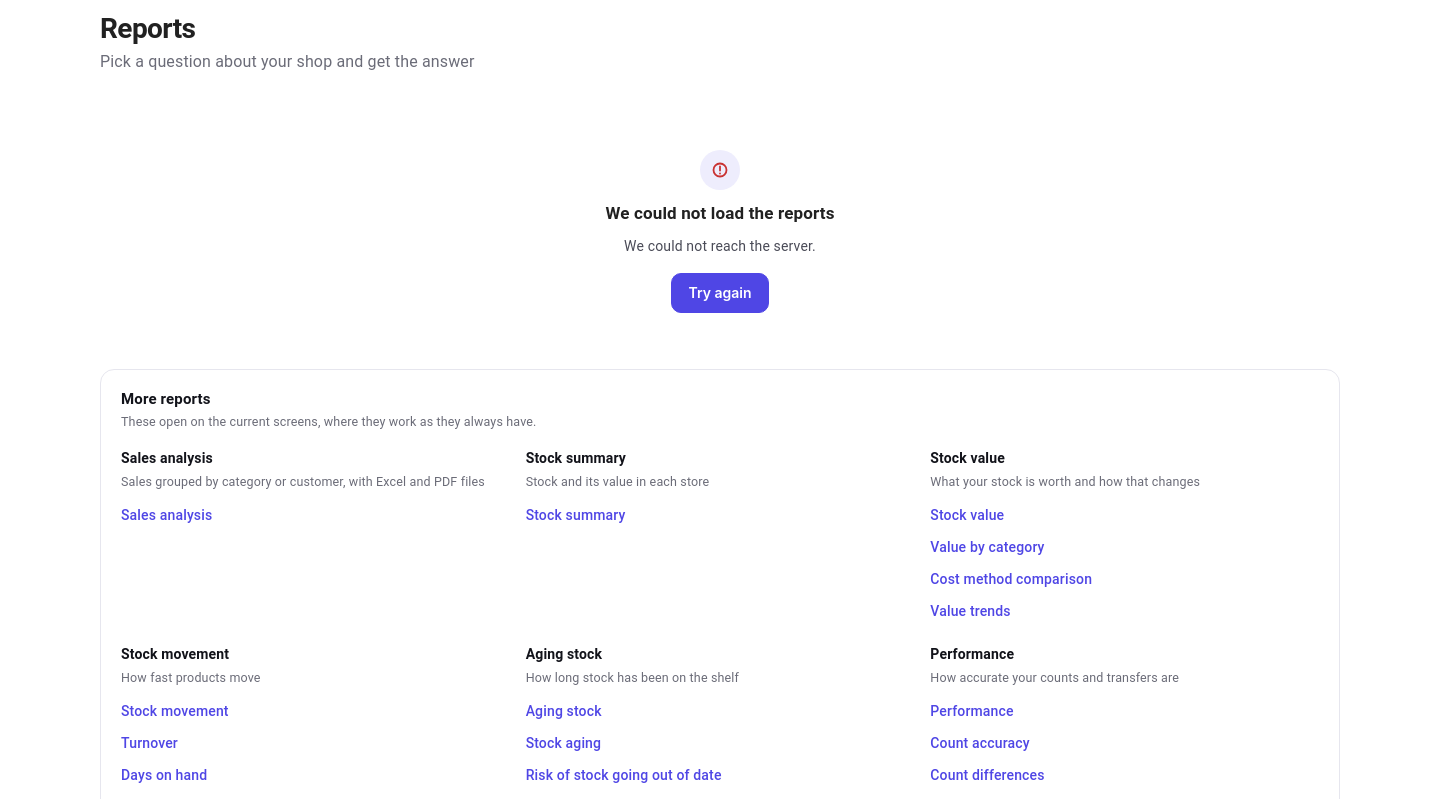
loading and errors › a failure says so, offers Try again, and still keeps the other reports reachable
The width and height of the screenshot is (1440, 799).
Check: the heading "We could not load the reports" is shown, box [605, 202, 834, 224]
Check: the text "We could not reach the server." is shown, box [624, 236, 816, 257]
Click the button "Try again". click: (720, 293)
box: [672, 273, 769, 313]
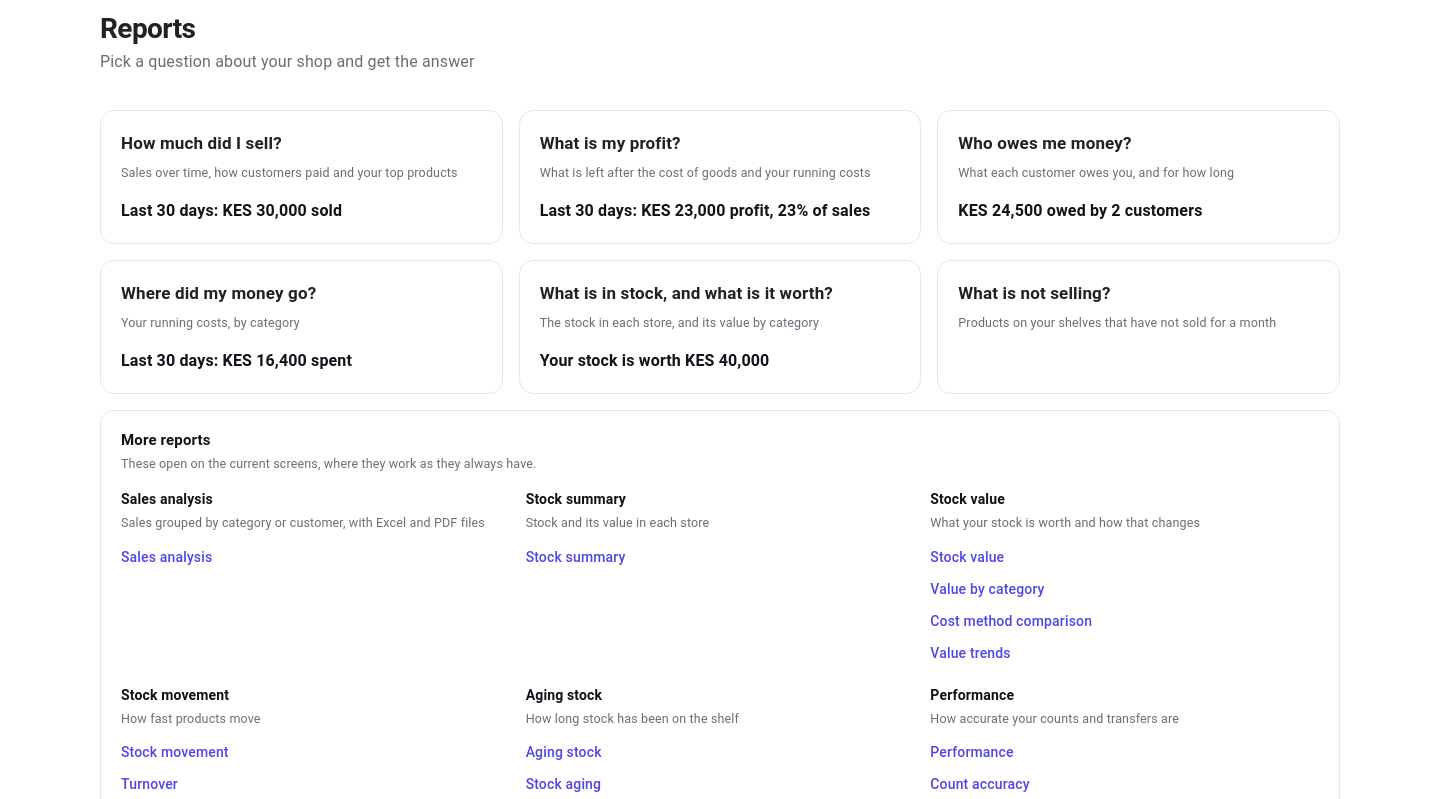
Check: the link "What is my profit?" is shown, box [540, 133, 681, 153]
